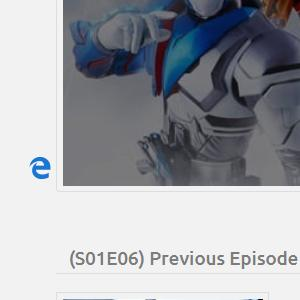edge: (29, 156, 50, 179)
